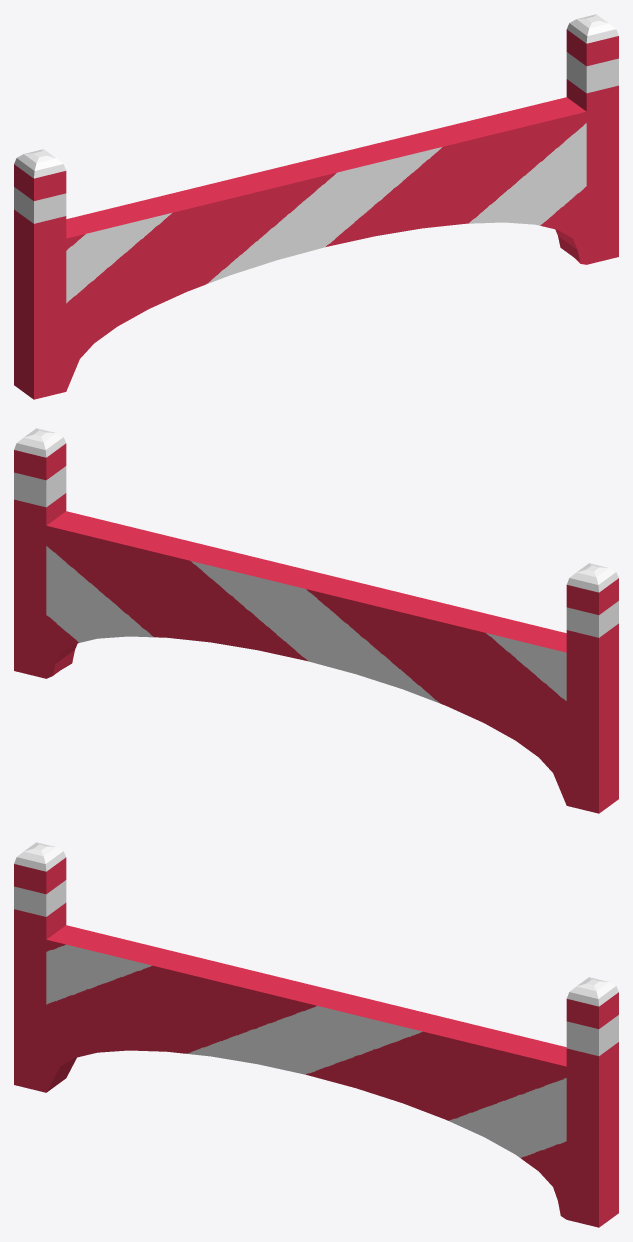
The model's file is WallObstacle.fbx.
3 renders of one model, top to bottom at view 1: azimuth 30°, elevation 25°; view 2: azimuth 150°, elevation 25°; view 3: azimuth 330°, elevation 25°, orthographic.
Parts seen in each view (by area): view 1: Cube.014; view 2: Cube.014; view 3: Cube.014.
Boxes of the visible parts, bbox=[...] form: Cube.014: bbox=[14, 14, 618, 399]; Cube.014: bbox=[14, 428, 618, 813]; Cube.014: bbox=[14, 842, 618, 1227].
Bounding box in the file's own units: 251 × 95.92 × 14.77.
Materials: 1 (1 with a texture image).
